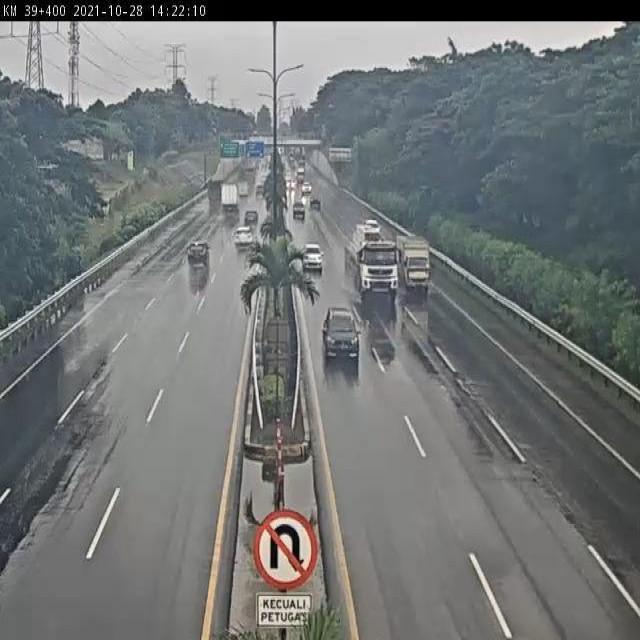car: (319, 304, 361, 361), (301, 242, 325, 274), (185, 240, 211, 269), (233, 224, 255, 249)
truck-l-: (344, 223, 399, 300)
truck-s-: (396, 236, 432, 292)
